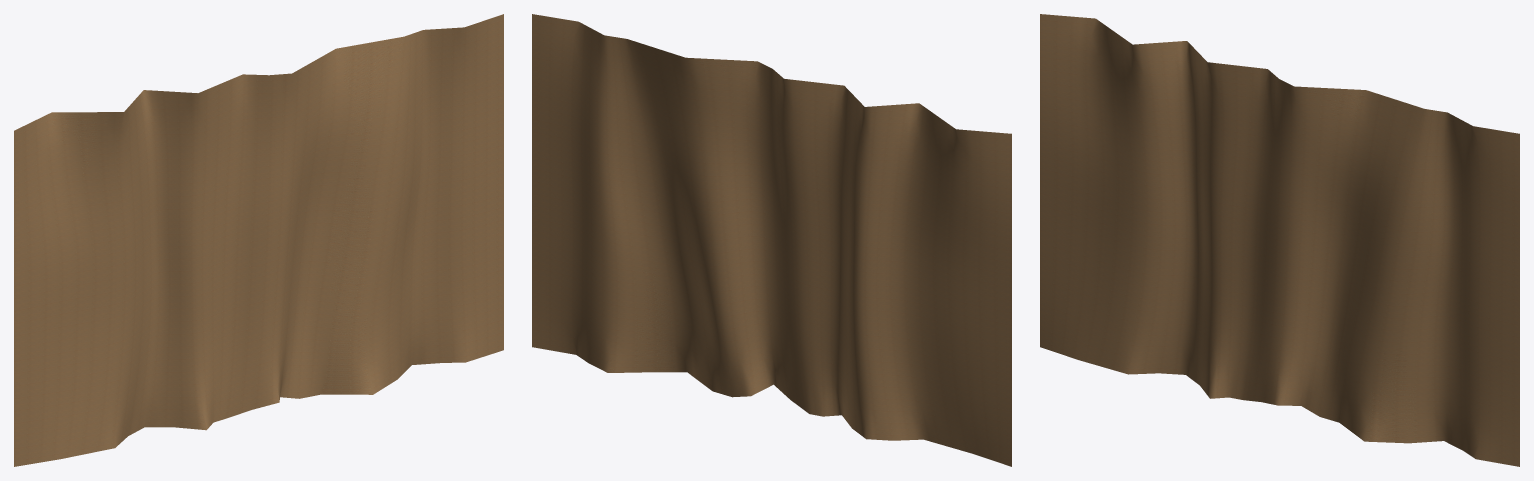
File: m_theater_curtain_lod1.fbx
3 renders of one model, left to right at view 1: azimuth 30°, elevation 25°; view 2: azimuth 150°, elevation 25°; view 3: azimuth 330°, elevation 25°, orthographic.
Parts seen in each view (by area): view 1: pPlane2; view 2: pPlane2; view 3: pPlane2.
Part boxes in pixels (left/top/right/bottom): pPlane2: left=14, top=14, right=503, bottom=466; pPlane2: left=532, top=14, right=1011, bottom=466; pPlane2: left=1040, top=14, right=1519, bottom=466.
Size of the model in its own units: 73.8 by 48.8 by 6.62.
